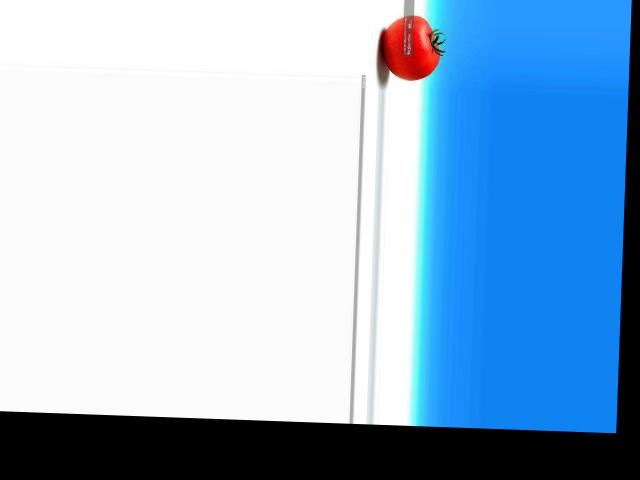tomato: (382, 13, 440, 80)
